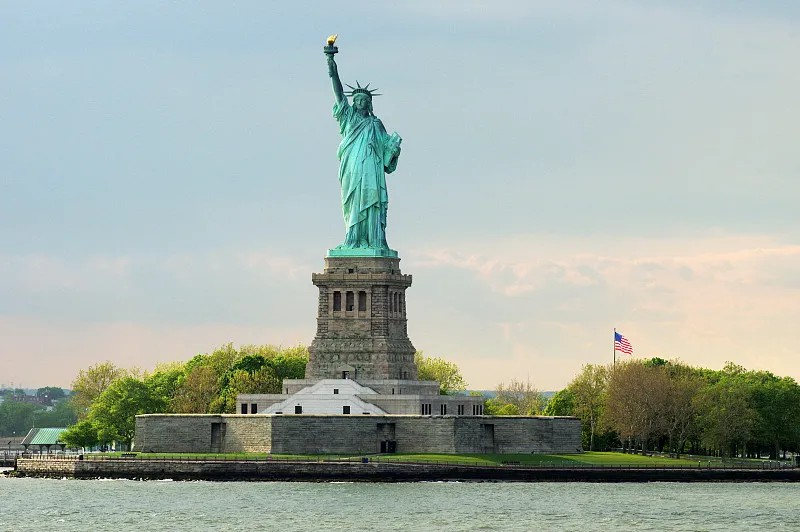SL: (304, 34, 419, 381)
